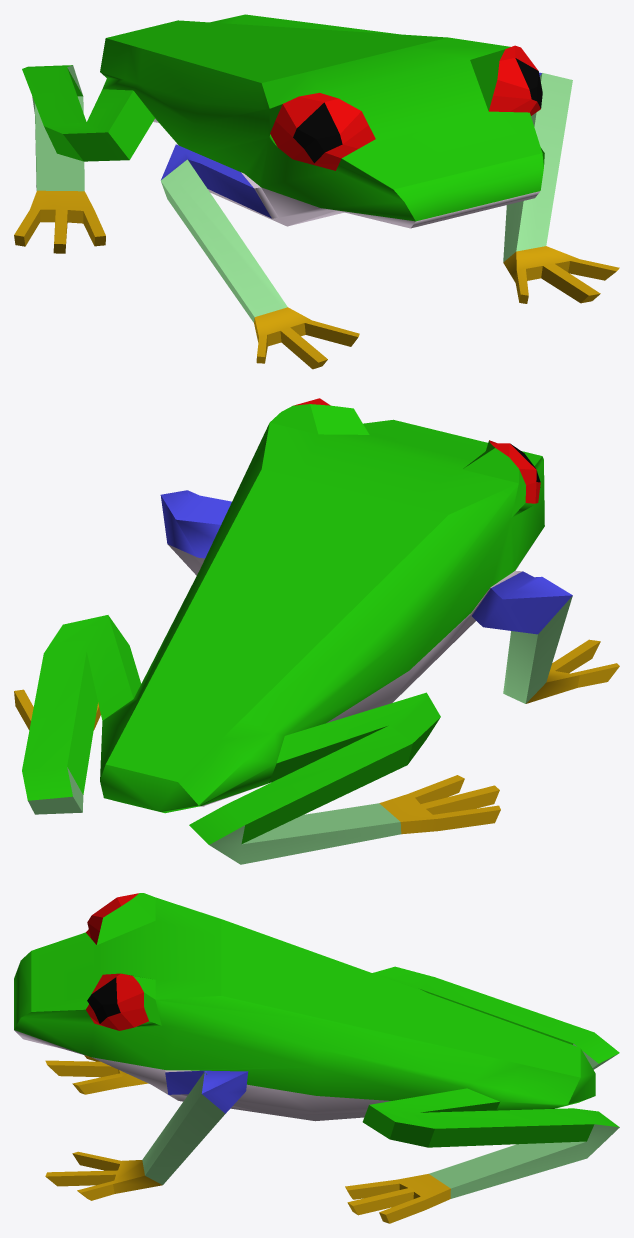
The model's file is Frog.fbx.
The picture shows the model from 3 angles, top to bottom: view 1: azimuth 30°, elevation 25°; view 2: azimuth 150°, elevation 25°; view 3: azimuth 270°, elevation 25°; orthographic projection. The views are drawn at different scales.
Visible parts, largest first — view 1: pCube1; view 2: pCube1; view 3: pCube1.
Part boxes in pixels (x1,y1,x2,y2): pCube1: (14,14,619,369); pCube1: (14,398,619,864); pCube1: (14,893,619,1223).
Size of the model in its own units: 2.6 by 1.18 by 3.33.
